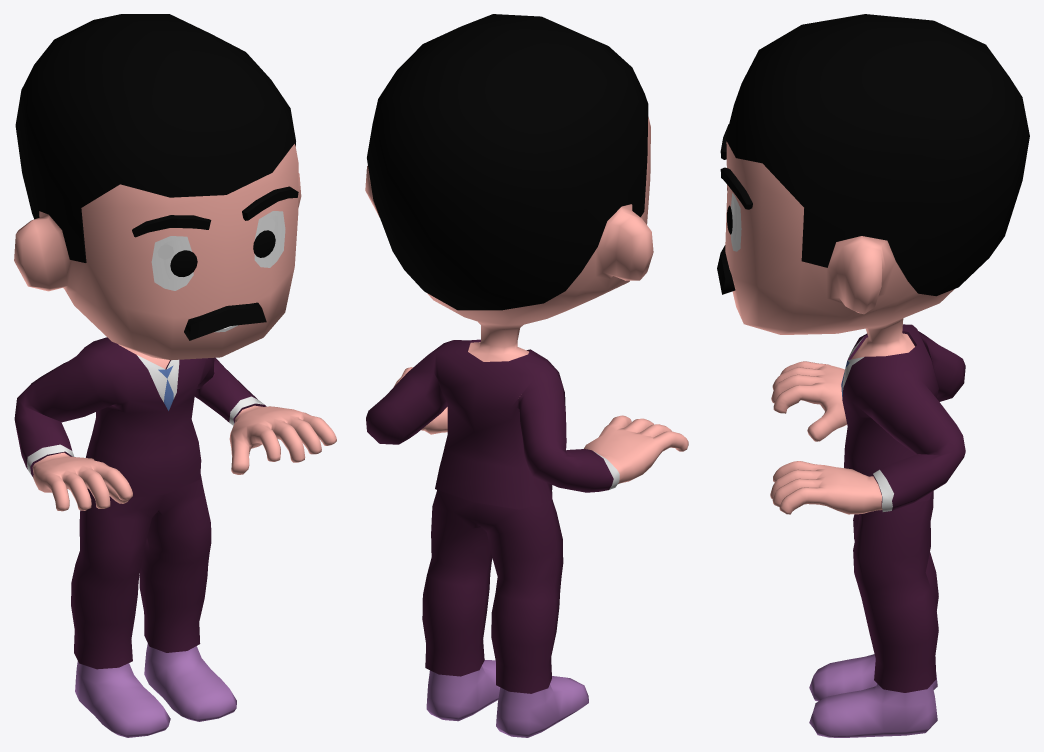
The model's file is Personaje_juzgado_5.fbx.
3 renders of one model, left to right at view 1: azimuth 30°, elevation 25°; view 2: azimuth 150°, elevation 25°; view 3: azimuth 270°, elevation 25°, orthographic.
Parts seen in each view (by area): view 1: hair4.003, body.007, shirt3.007, pants1.007, socks.007, eyes7.001, eyebrows1.007, beard4, eyes6.007; view 2: hair4.003, shirt3.007, pants1.007, body.007, socks.007; view 3: hair4.003, body.007, shirt3.007, pants1.007, socks.007, eyebrows1.007, beard4.
Boxes of the visible parts, x1,y1,x2,y2 form: hair4.003: [15, 14, 295, 262]; body.007: [14, 144, 336, 511]; shirt3.007: [14, 337, 266, 497]; pants1.007: [71, 474, 211, 669]; socks.007: [75, 643, 236, 737]; eyes7.001: [151, 211, 285, 290]; eyebrows1.007: [132, 186, 298, 237]; beard4: [184, 302, 266, 340]; eyes6.007: [170, 230, 275, 276]; hair4.003: [367, 14, 648, 310]; shirt3.007: [366, 339, 619, 509]; pants1.007: [422, 490, 563, 693]; body.007: [365, 117, 688, 483]; socks.007: [426, 660, 588, 737]; hair4.003: [725, 14, 1029, 296]; body.007: [725, 141, 954, 514]; shirt3.007: [841, 324, 965, 511]; pants1.007: [853, 491, 938, 692]; socks.007: [809, 654, 937, 737]; eyebrows1.007: [720, 124, 752, 209]; beard4: [717, 245, 735, 294].
Bounding box in the file's own units: 74.78 × 172 × 71.18.
